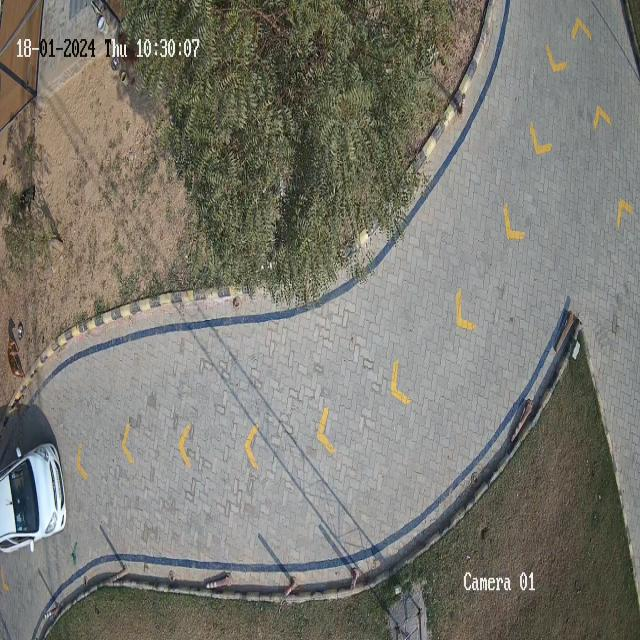car: (0, 440, 66, 556)
